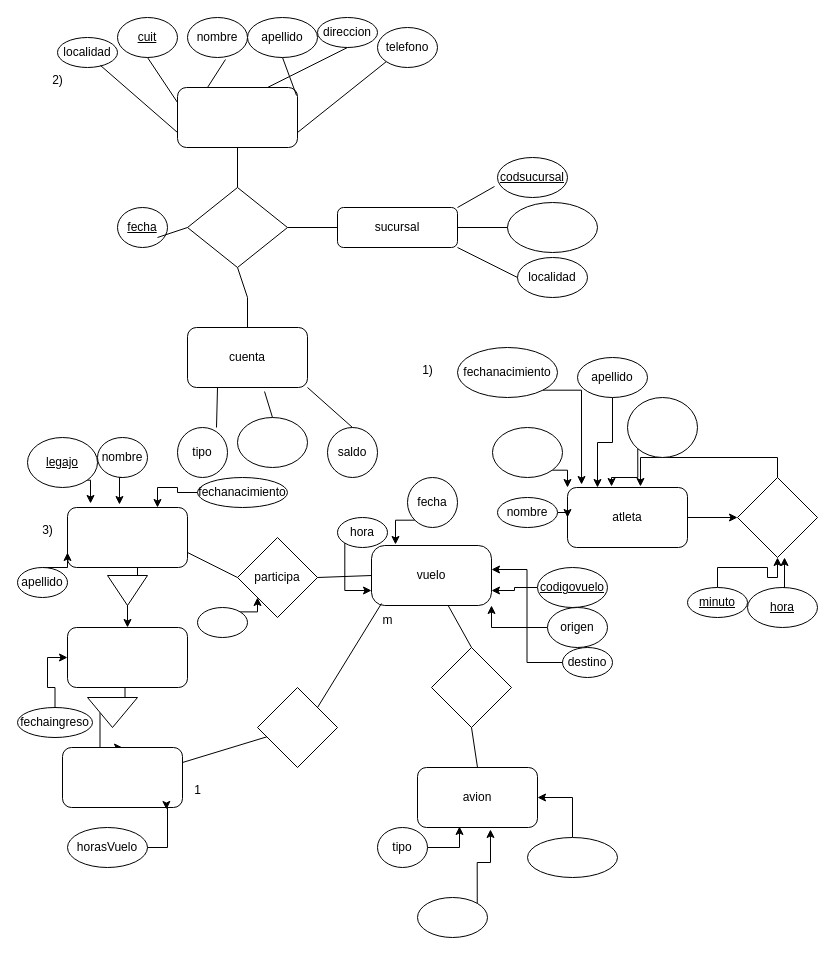
The diagram is 835 pixels wide and 955 high, and some of its shapes have lost their labels. Here are the shapes that lost their labels. From the top down, the centre of each, then its label:
point (237, 117): cliente
point (237, 227): abrir-cuenta
point (552, 227): nombresucursal
point (272, 442): nrocuenta
point (662, 427): nrodoc
point (527, 452): tipodoc
point (127, 537): personal
point (777, 517): relevo-posta
point (222, 622): cargo
point (127, 657): tripulacion
point (471, 687): realiza
point (297, 727): hace
point (122, 777): piloto
point (572, 857): codavion
point (452, 917): empresa
